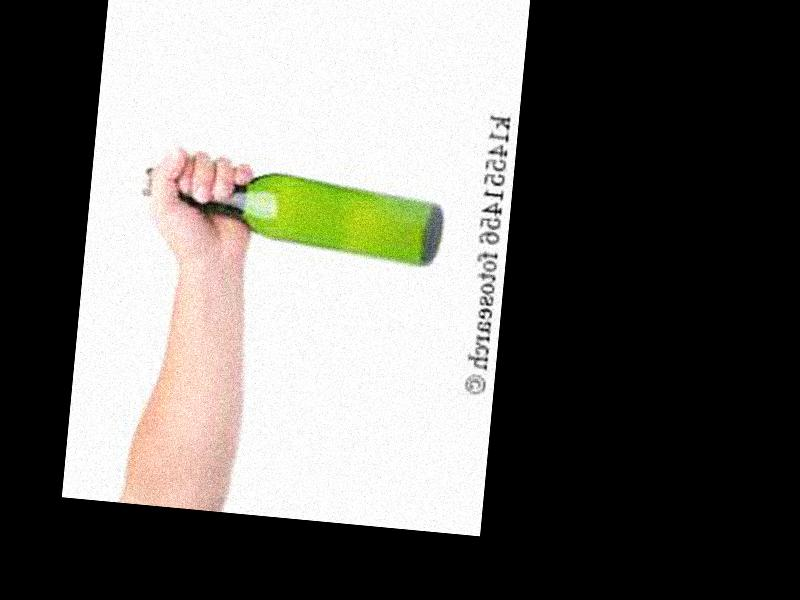Beer: (139, 161, 446, 269)
